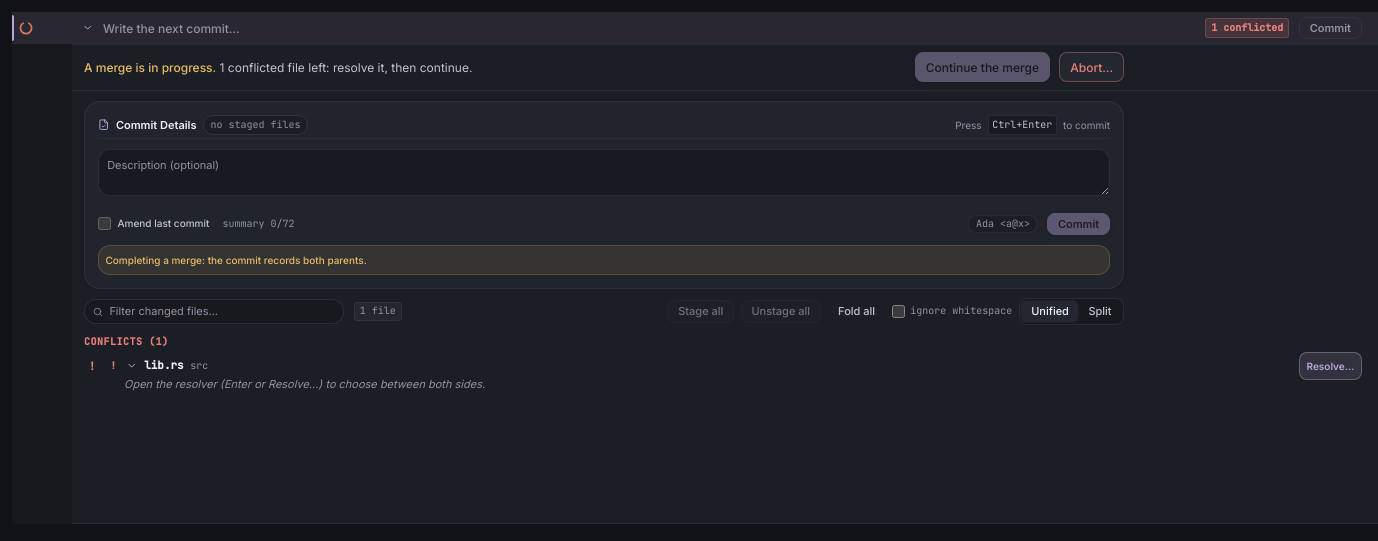
Scenario: conflict resolution › does not claim success when Git still reports the conflict
What coordinates should you click on to do the following:
click the button "Resolve…"
I would click on:
 (1330, 366)
Its box is [1299,352,1362,380].
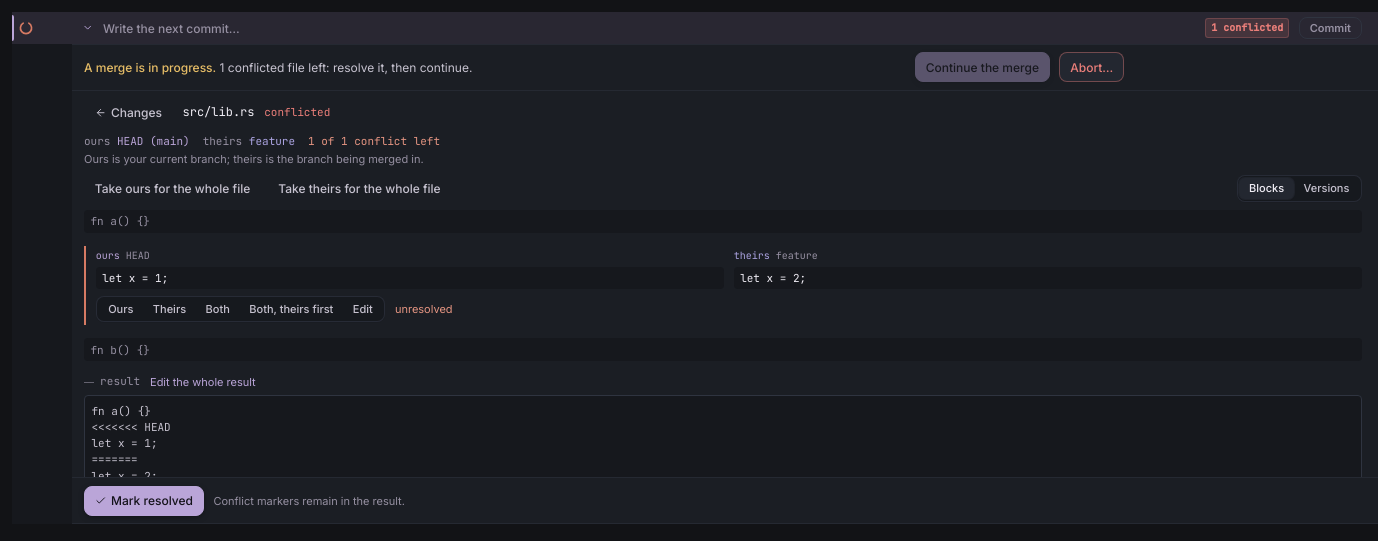
Now the text "HEAD (main)" is shown, box [117,134,190,148]
What coordinates should you click on to do the following:
click the radio button labelled "Ours"
I would click on:
 (121, 309)
Its box is [98,298,143,320].
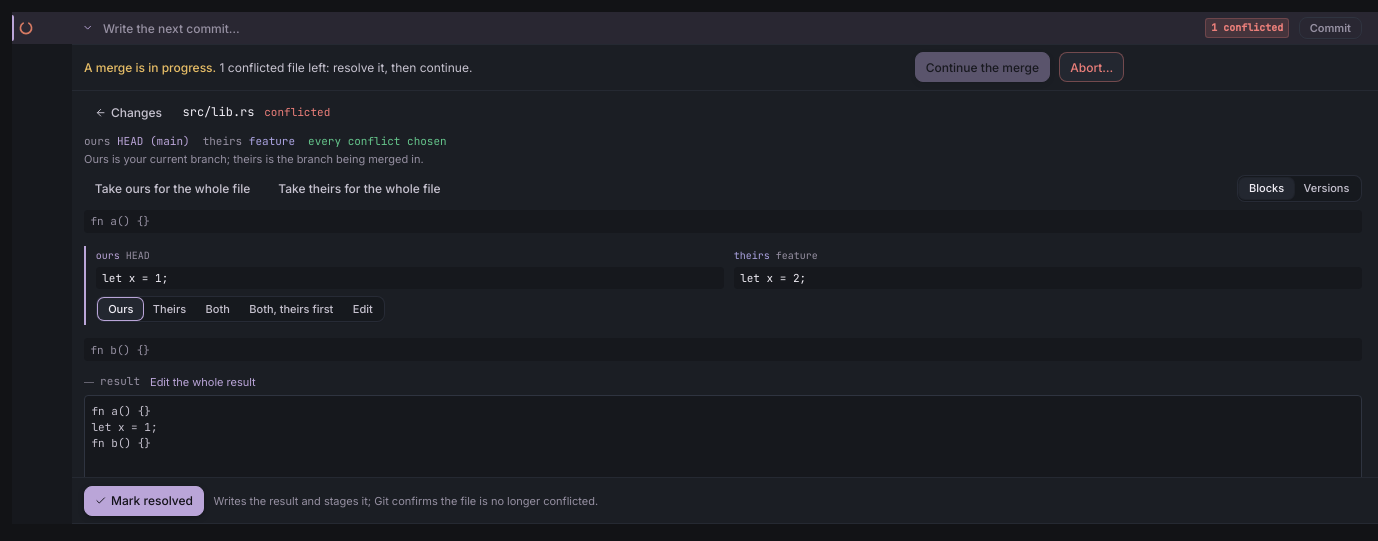
What coordinates should you click on to do the following:
click the button "Mark resolved"
I would click on:
 (144, 501)
Its box is [84,486,204,516].
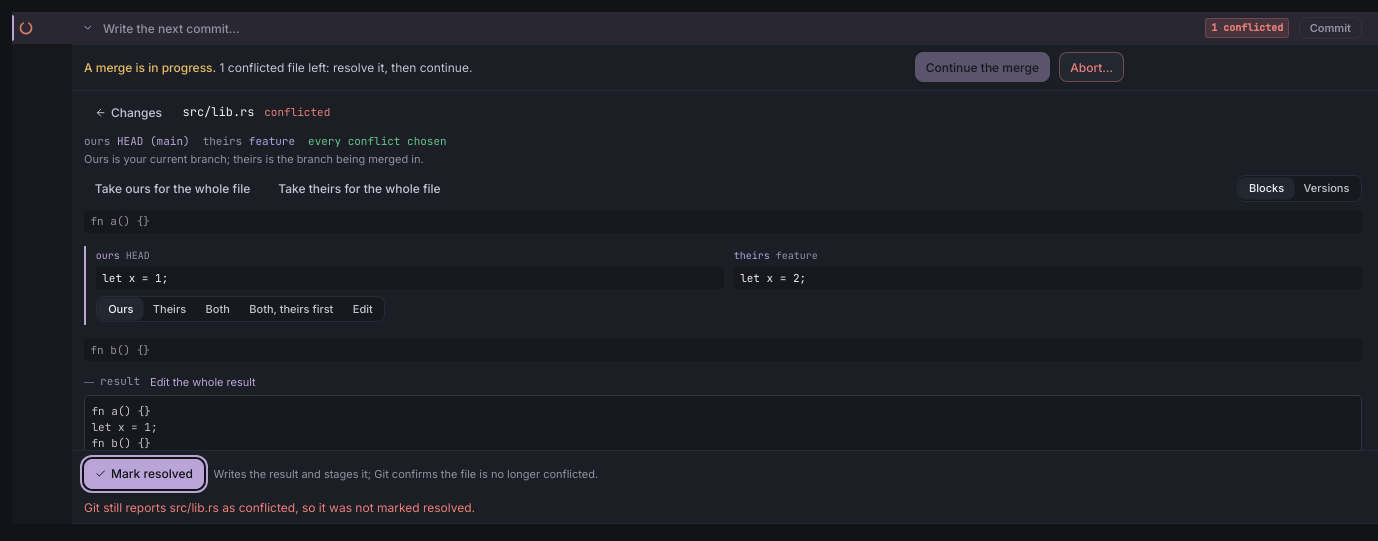
Now the message shows "Git still reports src/lib.rs as conflicted", box [84,500,475,515]
